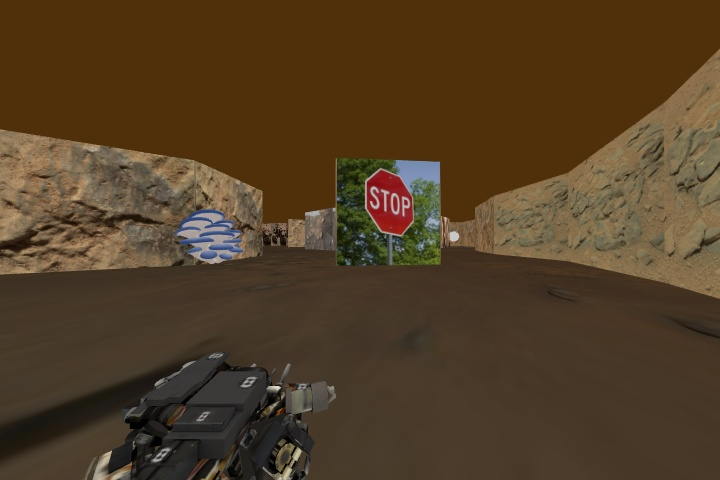mushroom: (173, 206, 246, 266)
